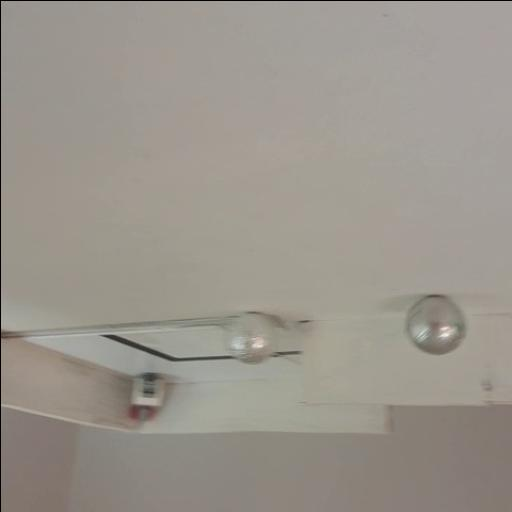alive: (404, 294, 466, 354), (222, 311, 284, 363)
